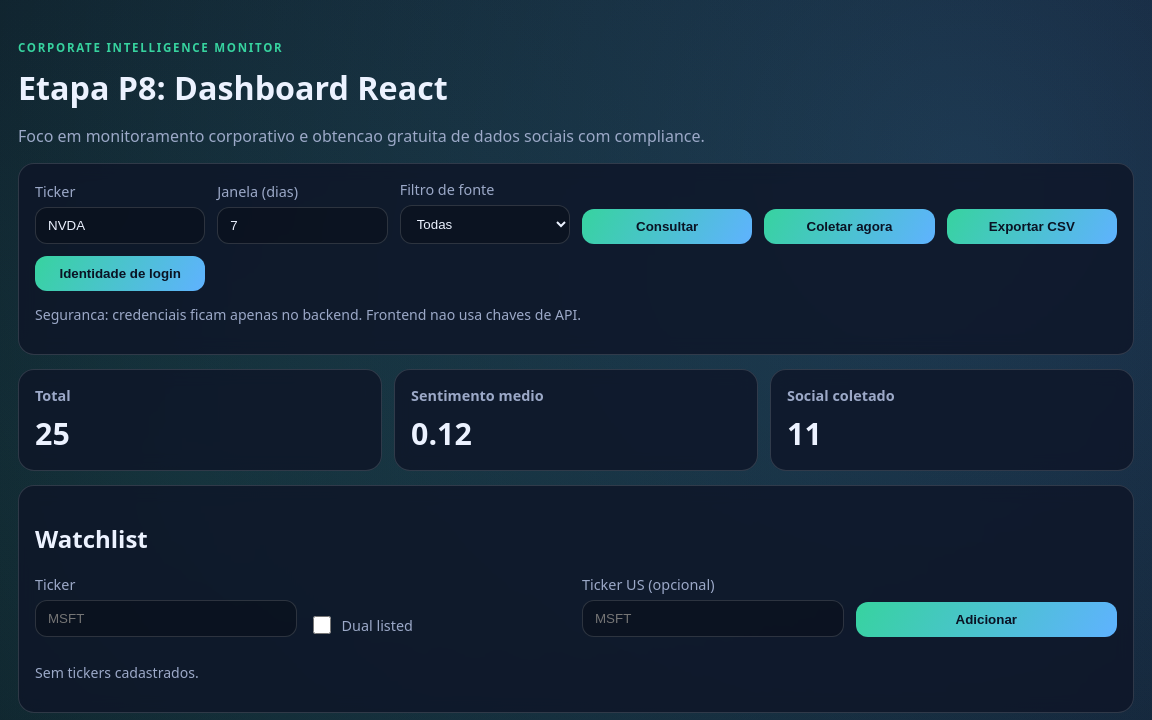
Scenario: App › exibe erro quando coleta finaliza com falha
Click the button "Coletar agora" at (849, 226), box [764,209,935,244]
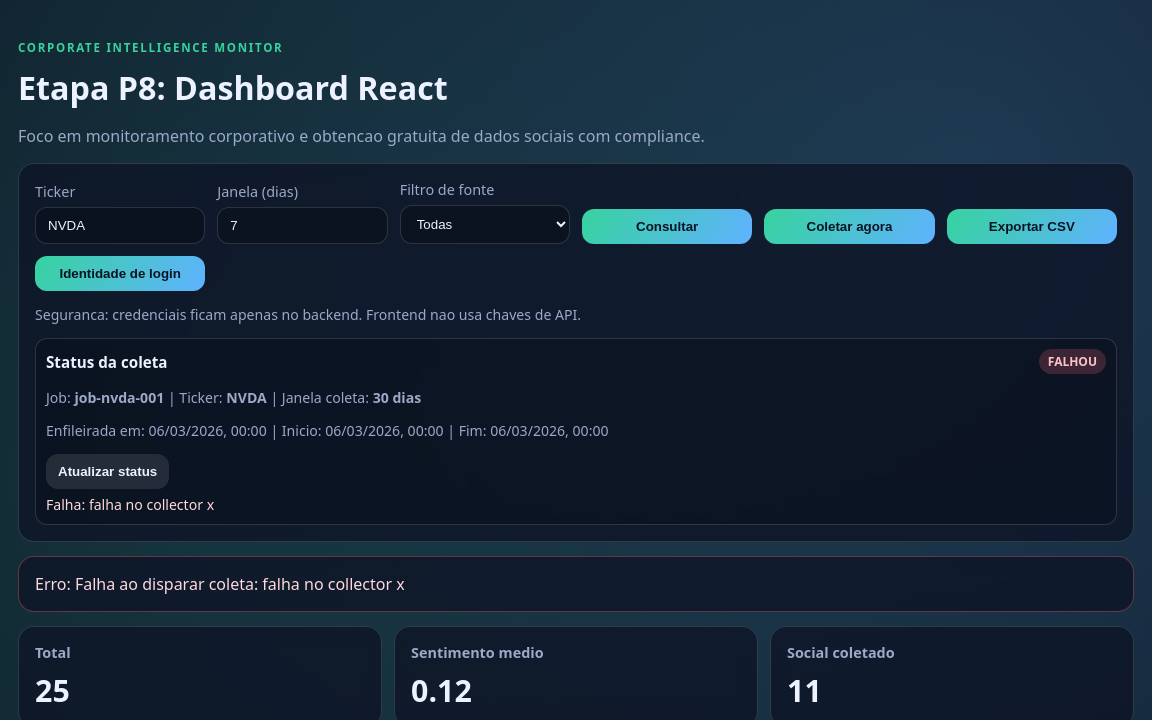
Check: the text "Erro: Falha ao disparar coleta: falha no collector x" is shown, box [18,556,1134,612]
Check: the message shows "Job: job-nvda-001", box [35,338,1117,525]
Check: the message shows "falhou", box [1048,353,1097,370]
